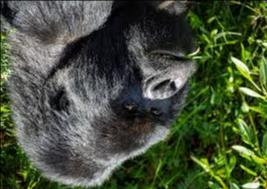gorille_Autres: (2, 0, 213, 187)
